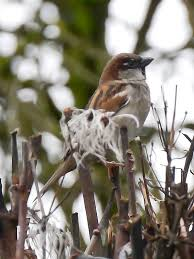hsparrow: (27, 52, 157, 201)
